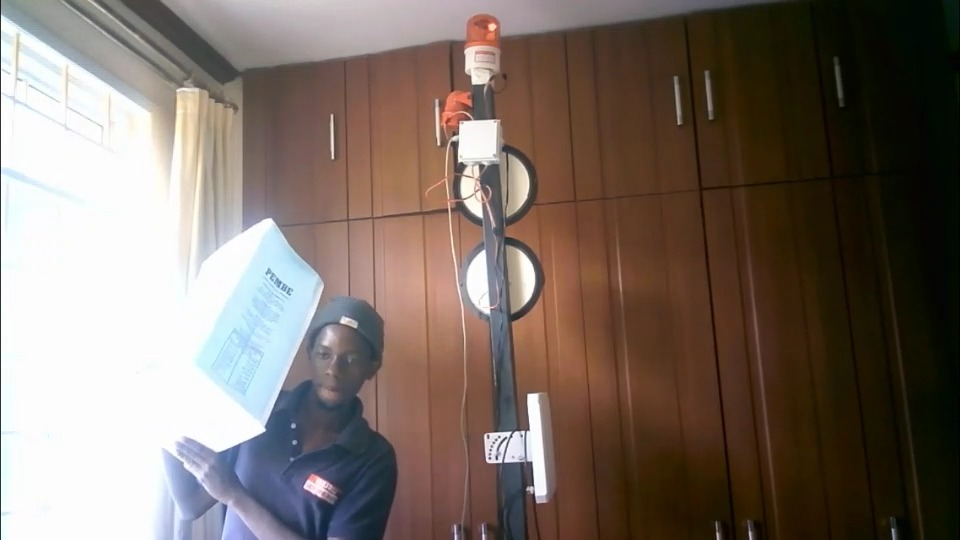wheat_flour_blue_label: (175, 219, 323, 451)
